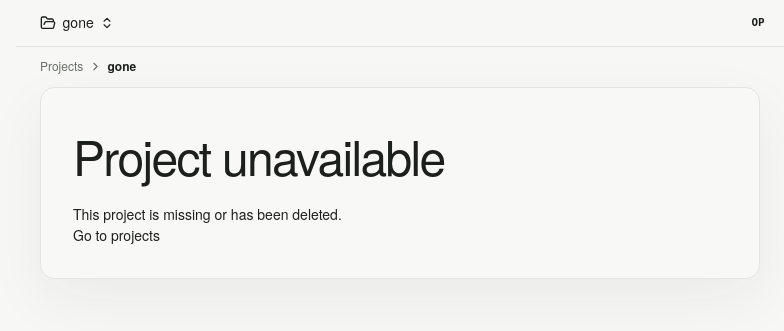
gives a deleted project a route back to the project list
Check: the heading "Project unavailable" is shown, box [73,121,444,190]
Click the link "Go to projects".
click(116, 235)  # box [73,225,160,245]
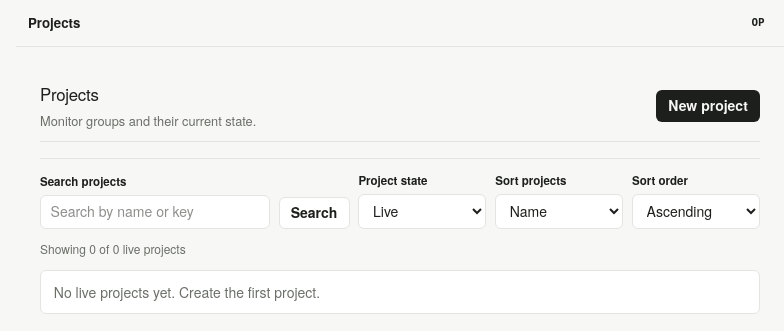
Check: the heading "Projects" is shown, box [40,82,98,106]
